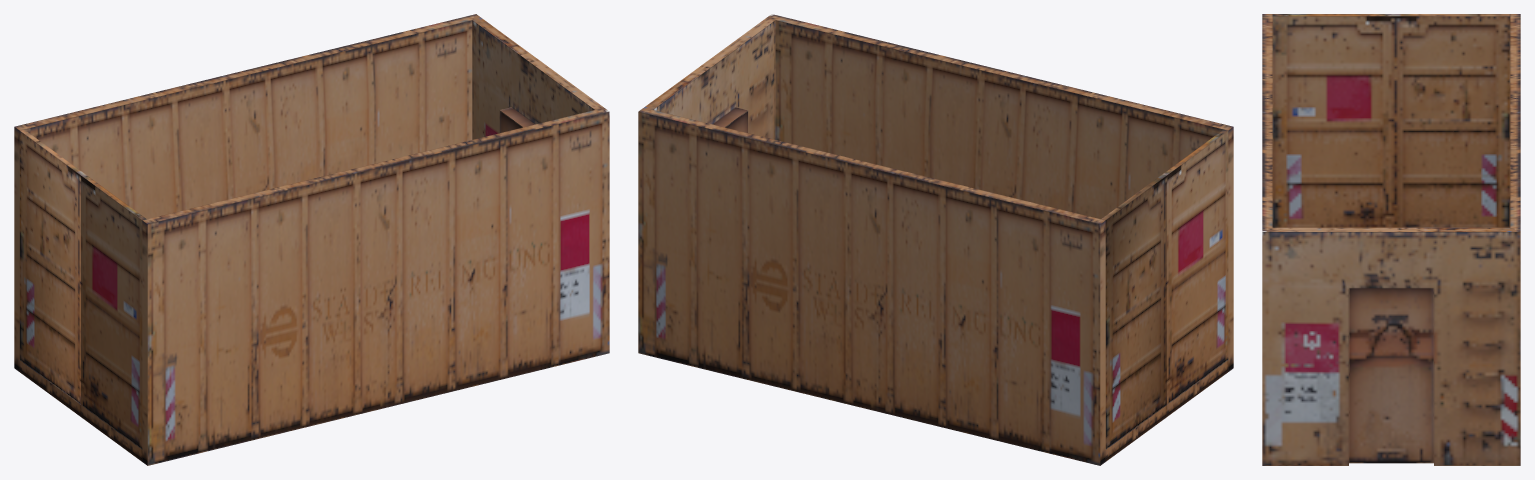
File: WasteContainer01.obj
The picture shows the model from 3 angles, left to right: view 1: azimuth 30°, elevation 25°; view 2: azimuth 150°, elevation 25°; view 3: azimuth 270°, elevation 25°; orthographic projection. The views are drawn at different scales.
Parts seen in each view (by area): view 1: WasteContainer01, WasteContainer01.DoorLft, WasteContainer01.DoorRht; view 2: WasteContainer01, WasteContainer01.DoorRht, WasteContainer01.DoorLft; view 3: WasteContainer01, WasteContainer01.DoorRht, WasteContainer01.DoorLft.
Part boxes in pixels (<box>): WasteContainer01: <box>14,14,609,465</box>; WasteContainer01.DoorLft: <box>81,174,146,449</box>; WasteContainer01.DoorRht: <box>19,129,85,404</box>; WasteContainer01: <box>638,14,1233,465</box>; WasteContainer01.DoorRht: <box>1101,174,1166,449</box>; WasteContainer01.DoorLft: <box>1162,129,1228,404</box>; WasteContainer01: <box>1262,14,1520,465</box>; WasteContainer01.DoorRht: <box>1391,14,1510,227</box>; WasteContainer01.DoorLft: <box>1272,14,1391,227</box>.
Size of the model in its own units: 6 by 3 by 3.
